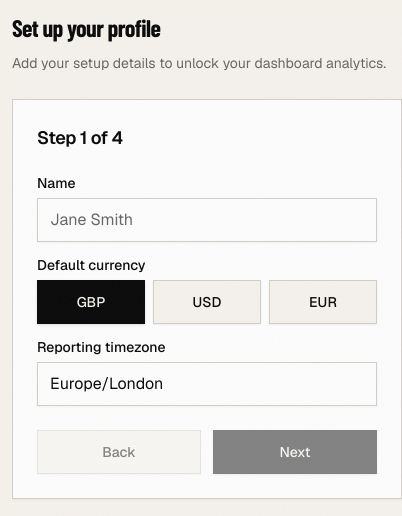
Test case: ProfileSetupFlow mobile step validation › chairRent step (step 2) › disables Next button when payChairRent is null
Type "Test User" into the field labelled "Name". click: x=207, y=220
box: [37, 198, 377, 242]
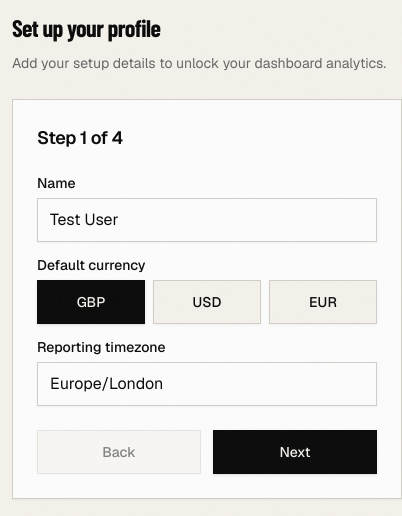
Click the button with test id "mobile-next". click: x=295, y=452
box: [213, 430, 377, 474]
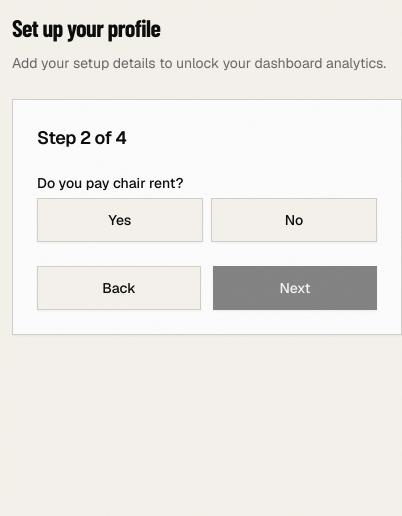
expect the button with test id "mobile-next" is disabled: met, box [213, 266, 377, 310]
